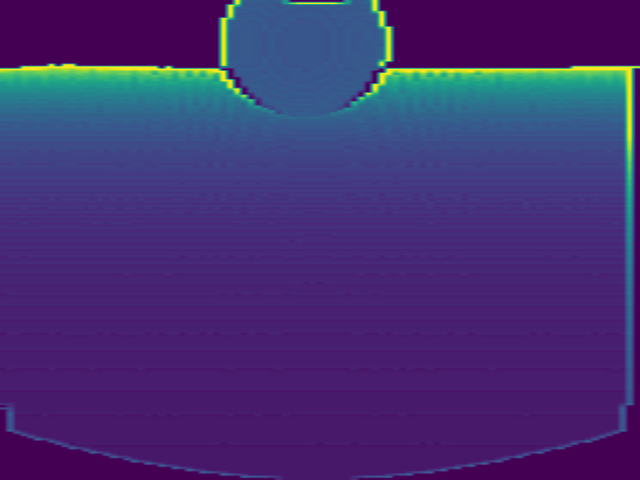sphere: (218, 1, 394, 115)
